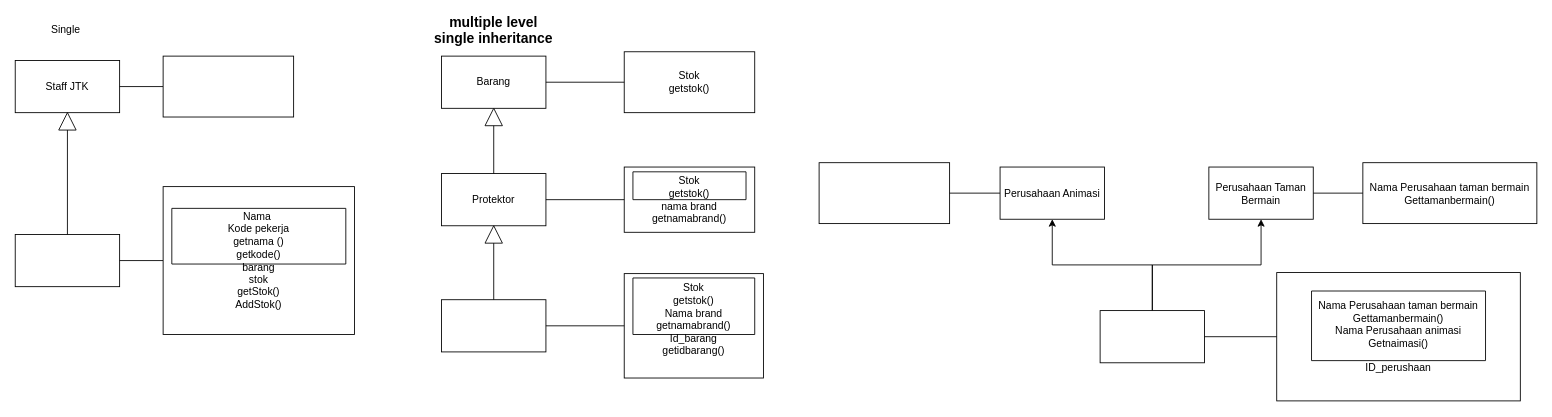
This 1552x417 diagram has some shape labels left out. The shapes that lost their labels are listed below. From the top down, each one's centre as x and y in pixels, then its label:
the point at 228,86: Nama Kode pekerja getnama () getkode()
the point at 884,193: Nama Perusahaan animasi Getnaimasi()
the point at 67,260: Petugas Peralatan
the point at 493,325: Spesifikasi
the point at 1152,336: DISNEY
